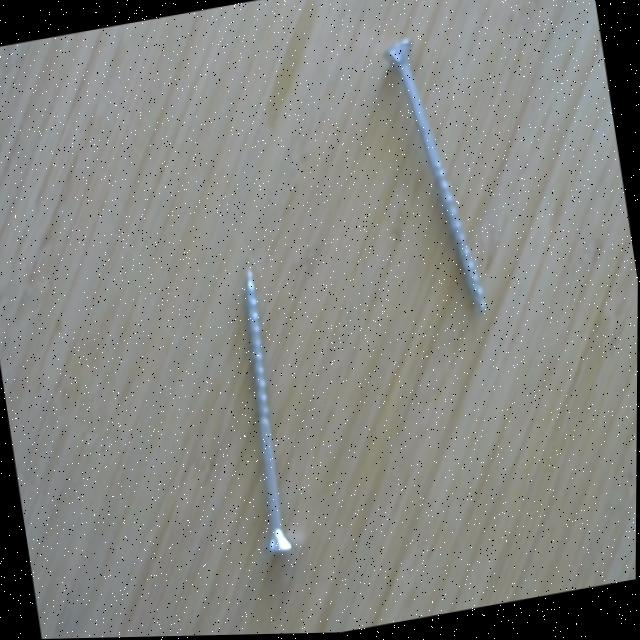Long screw: (378, 29, 496, 336), (219, 262, 303, 563)
